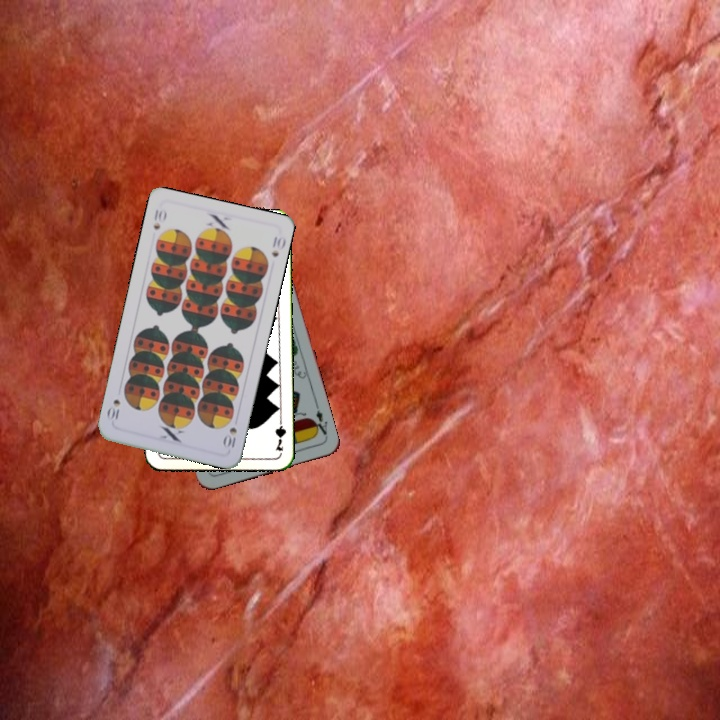EA: (308, 401, 330, 441)
G7: (271, 413, 288, 454)
S10: (219, 423, 239, 451), (149, 205, 169, 233)
